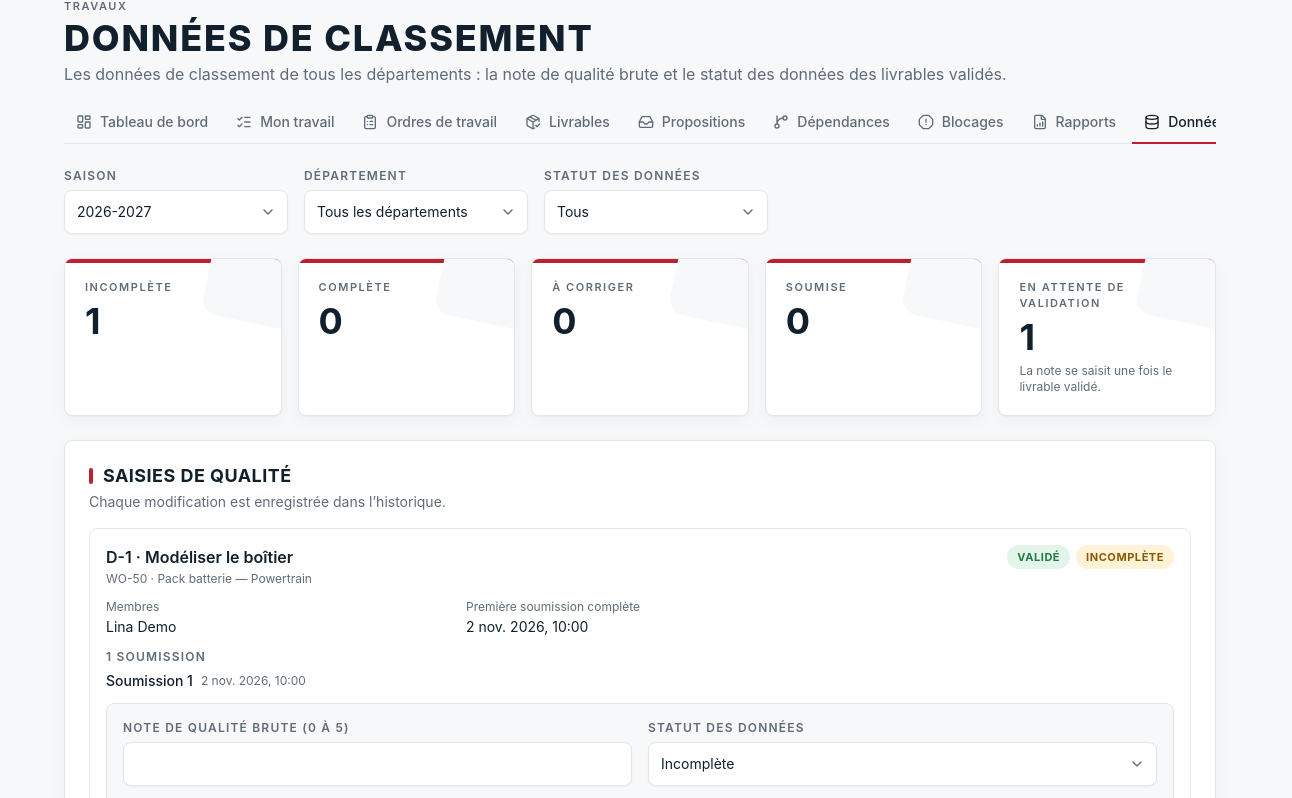
Test case: RankingDataPage › saves a confirmed quality mark, and shows the unvalidated work as awaiting validation
The image size is (1292, 798).
Expected: the link "D-1 · Modéliser le boîtier" is shown, [106,544,312,568]
Expected: the text "En attente de validation" is shown, [1019,280,1125,310]
Type "4.5" into the number field labelled "Note de qualité brute (0 à 5)" at (378, 764), box [123,742,632,786]
(page scrolled)
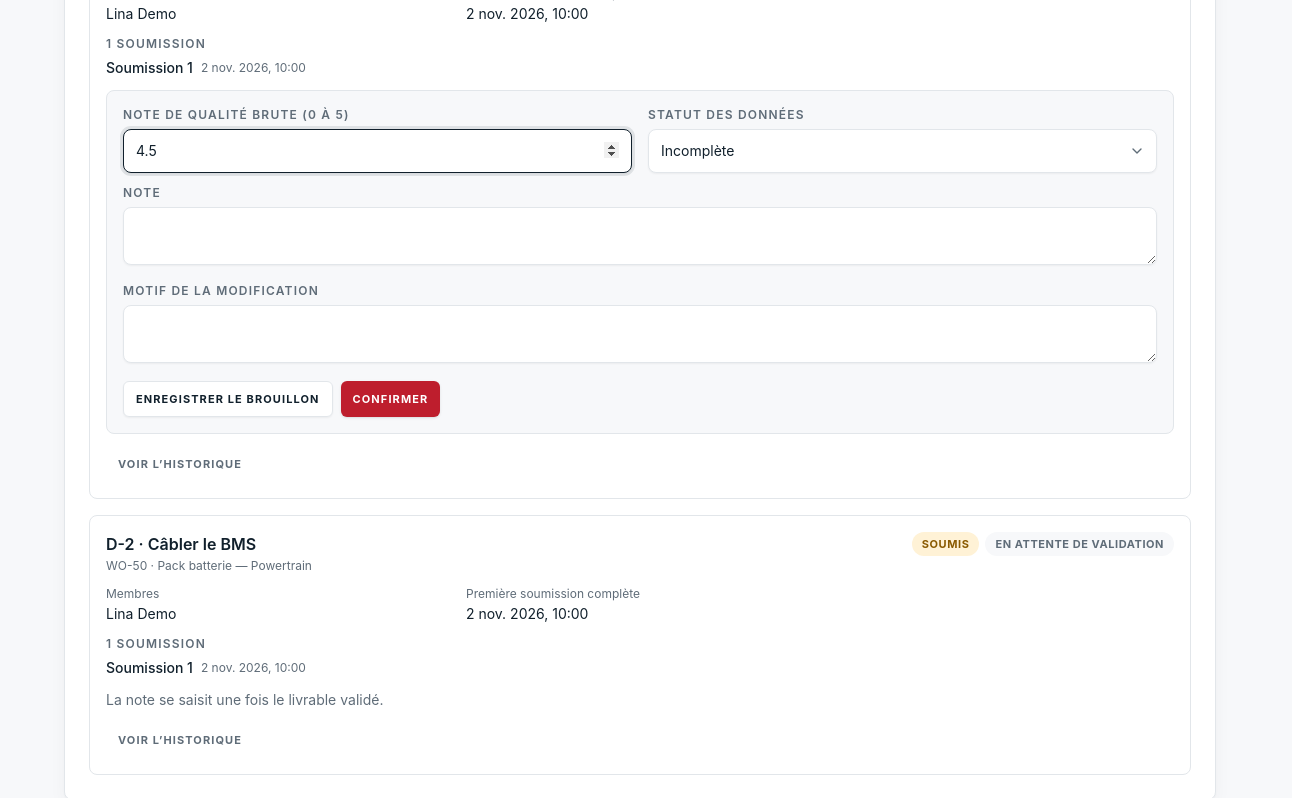
Click the button "Confirmer" at (390, 398), box [340,380,440,416]
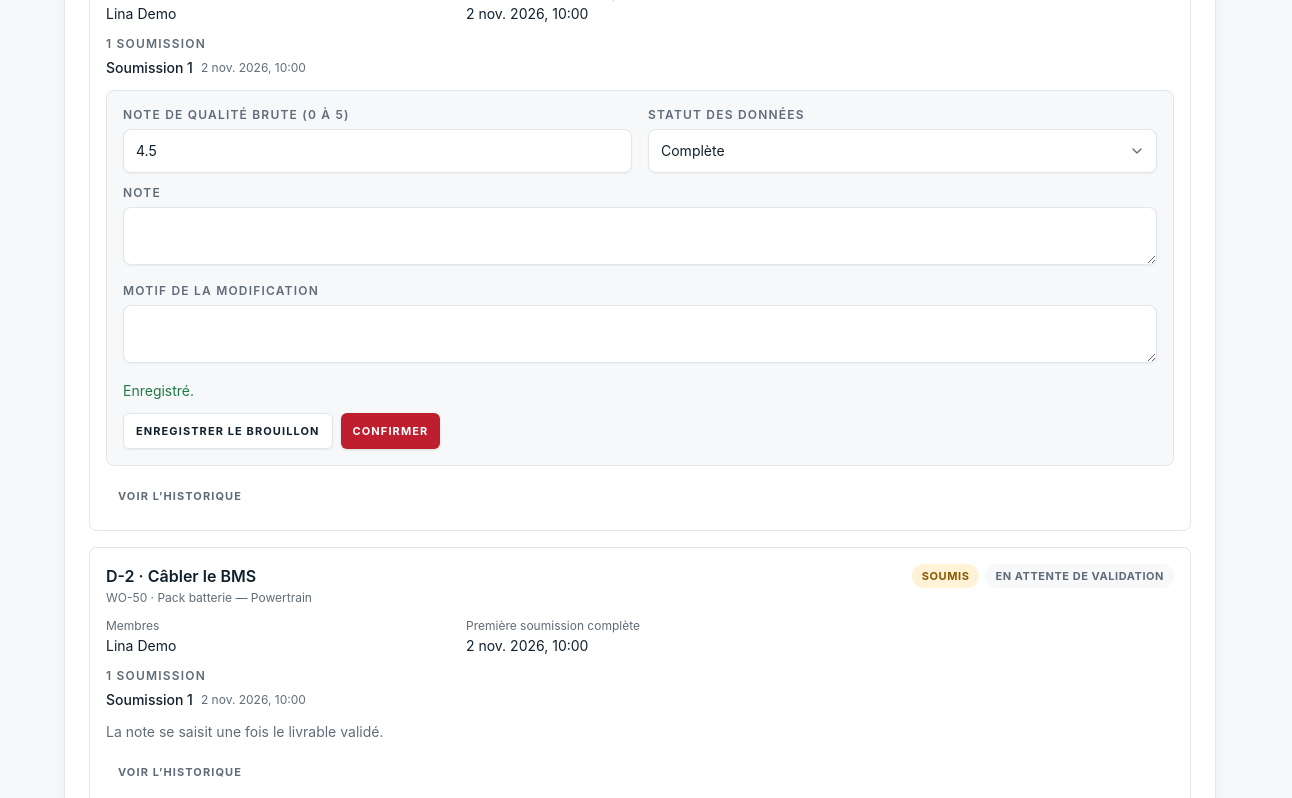
Result: the text "Enregistré." is shown at [123,382,194,398]
